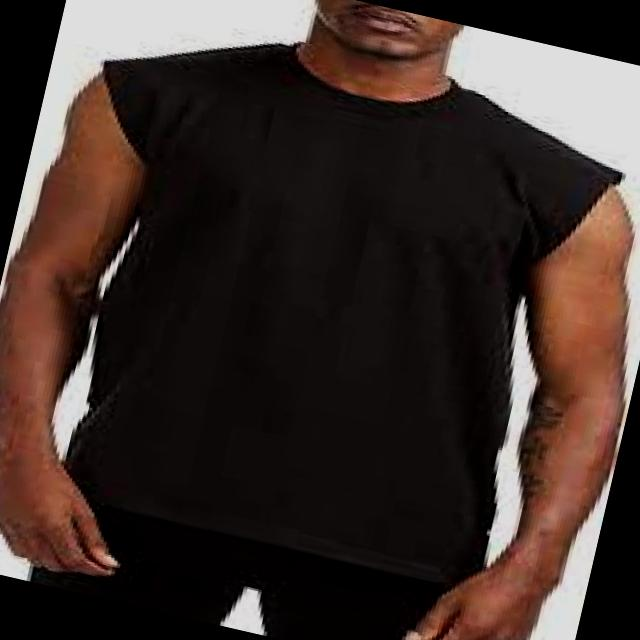no_vest: (1, 1, 637, 606)
